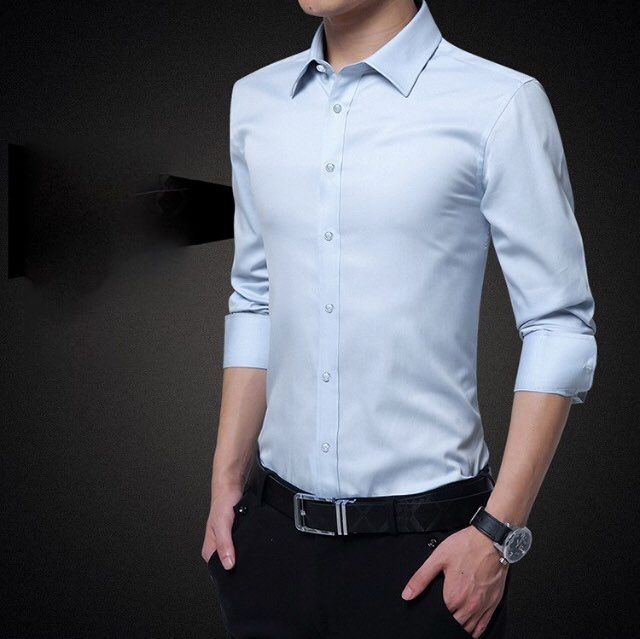shirts: (216, 9, 598, 501)
